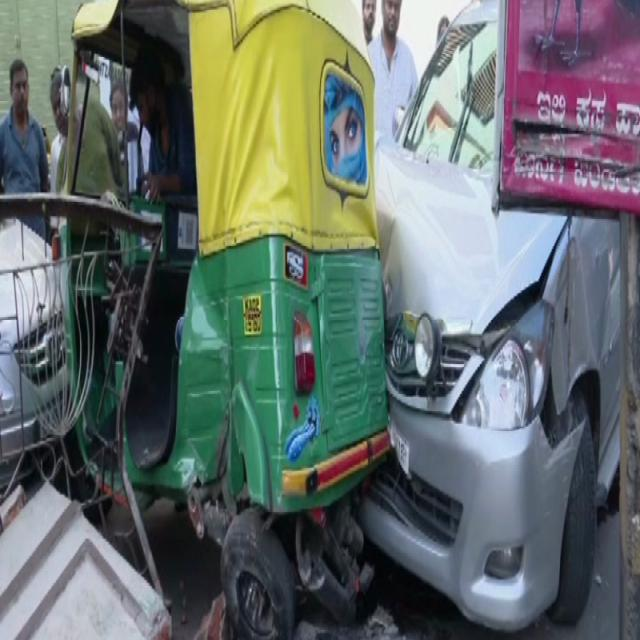accident: (0, 0, 390, 637), (360, 0, 640, 629)
